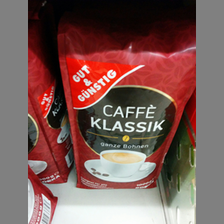coffee: (57, 18, 195, 190)
